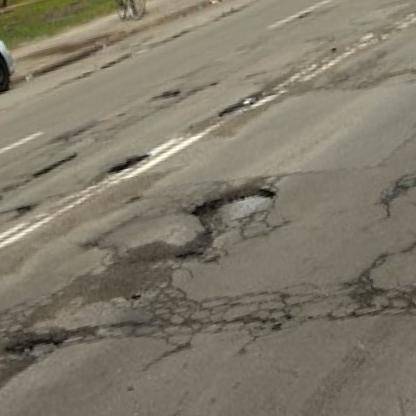pothole: (165, 182, 285, 264), (3, 325, 66, 369), (30, 152, 80, 181), (106, 149, 153, 177), (215, 89, 262, 117), (156, 87, 184, 100), (18, 203, 31, 214)
